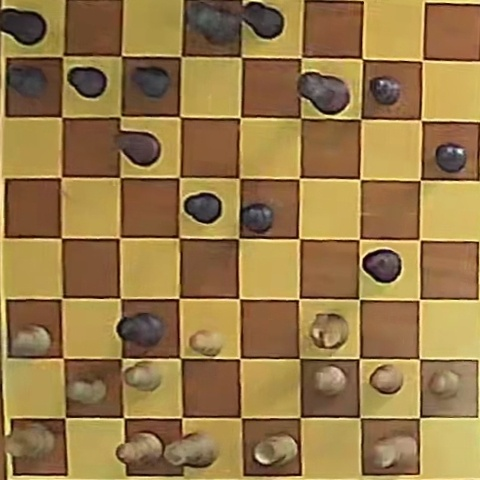black-bishop: (117, 312, 163, 348), (362, 249, 402, 283)
black-king: (298, 73, 349, 115)
black-knight: (116, 132, 160, 166)
black-pawn: (8, 65, 48, 98), (131, 66, 171, 98), (68, 67, 107, 98), (184, 193, 222, 224), (435, 143, 467, 173), (242, 204, 274, 233), (369, 76, 401, 105)
black-queen: (187, 1, 243, 45)
black-rook: (0, 8, 47, 47), (242, 2, 284, 40)
white-bishop: (117, 432, 163, 465)
white-king: (373, 434, 418, 469)
white-knight: (309, 313, 347, 348)
white-pawn: (11, 325, 52, 356), (124, 361, 161, 391), (313, 365, 347, 396), (68, 377, 107, 404), (370, 364, 403, 394), (428, 369, 461, 398), (190, 330, 223, 356)
white-queen: (164, 431, 218, 467)
white-rook: (6, 423, 56, 460), (253, 434, 298, 467)
